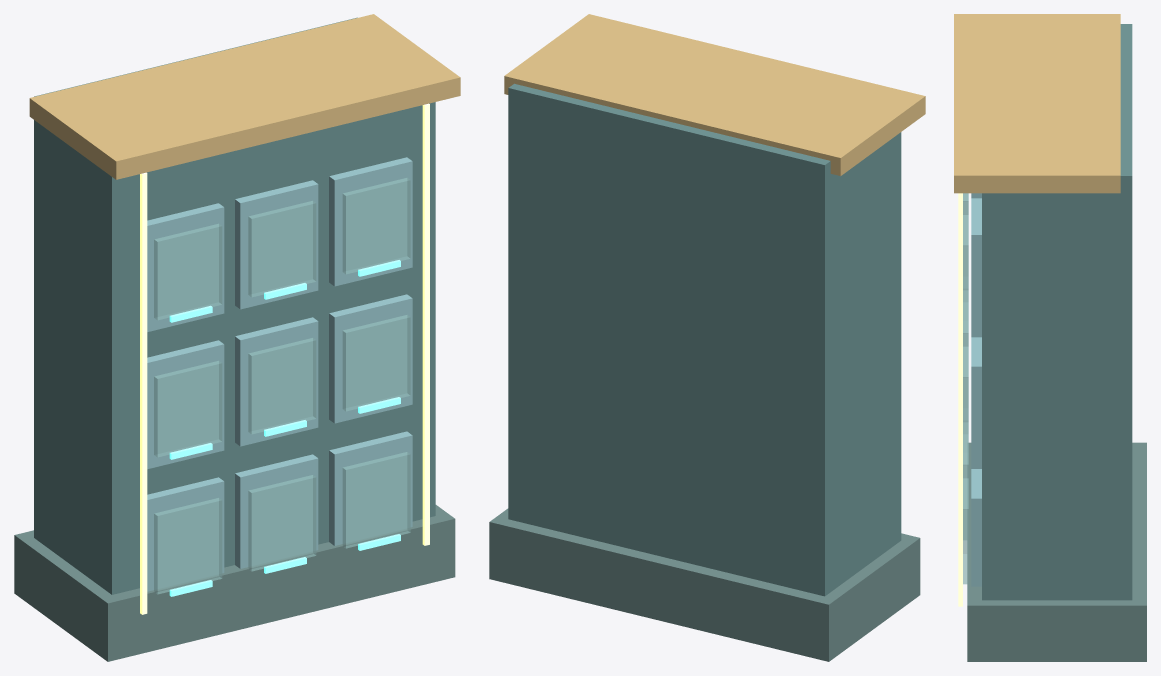
File: cold-locker.glb
The picture shows the model from 3 angles, left to right: view 1: azimuth 30°, elevation 25°; view 2: azimuth 150°, elevation 25°; view 3: azimuth 270°, elevation 25°; orthographic projection. The views are drawn at different scales.
Parts seen in each view (by area): view 1: cold.module, cold.upper.rim, cold.base, cold.cell.2.1, cold.cell.1.0, cold.cell.1.1, cold.cell.2.0, cold.cell.1.-1, cold.cell.2.-1, cold.cell.0.0, cold.cell.0.1, cold.cell.0.-1 (+11 smaller); view 2: cold.module, cold.upper.rim, cold.base; view 3: cold.module, cold.upper.rim, cold.base, cold.side.light.0.96, cold.cell.2.1, cold.cell.1.1, cold.cell.0.1, cold.window.1.1, cold.window.0.1, cold.window.2.1, cold.window.1.0, cold.window.0.0 (+1 smaller).
Part boxes in pixels (x1,y1,x2,y2): cold.module: (34,17,435,594); cold.upper.rim: (29,14,460,179); cold.base: (14,505,455,661); cold.cell.2.1: (329,157,412,286); cold.cell.1.0: (235,317,318,446); cold.cell.1.1: (329,294,412,423); cold.cell.2.0: (235,180,318,309); cold.cell.1.-1: (147,340,224,469); cold.cell.2.-1: (147,203,224,331); cold.cell.0.0: (235,454,318,568); cold.cell.0.1: (329,431,412,545); cold.cell.0.-1: (147,477,224,591); cold.module: (508,83,901,596); cold.upper.rim: (504,14,925,175); cold.base: (489,508,920,661); cold.module: (982,24,1132,600); cold.upper.rim: (954,14,1120,193); cold.base: (967,442,1146,661); cold.side.light.0.96: (958,193,962,606); cold.cell.2.1: (971,198,981,337); cold.cell.1.1: (971,337,981,468); cold.cell.0.1: (971,469,981,586); cold.window.1.1: (963,346,968,452); cold.window.0.1: (963,478,968,584); cold.window.2.1: (963,215,968,320); cold.window.1.0: (963,303,968,407); cold.window.0.0: (963,435,968,539).
Bounding box in the file's own units: 2.36 × 3.29 × 1.18.
